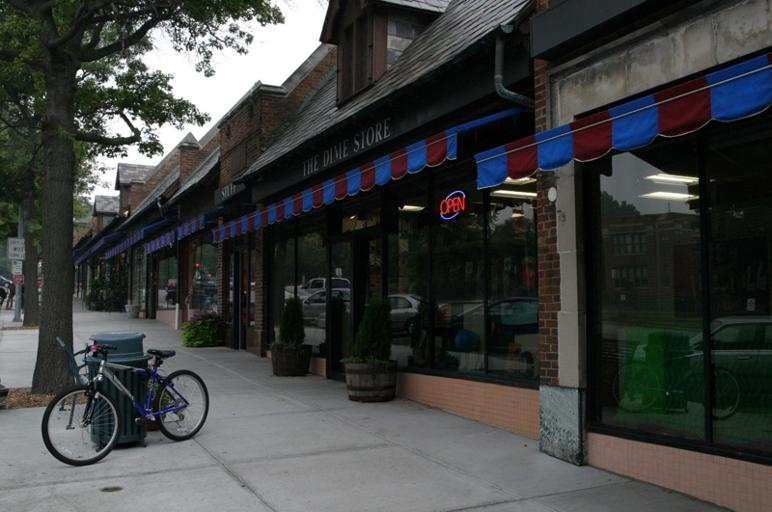non-vehicle: (42, 337, 209, 465), (612, 320, 740, 418)
